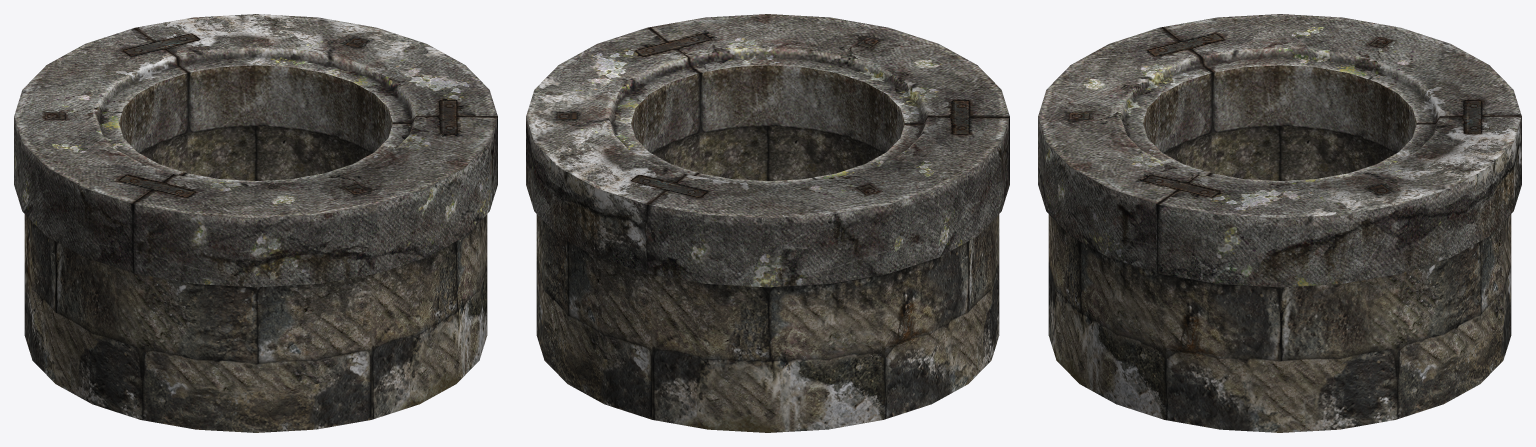
Rendered from SM_Well.FBX.
The picture shows the model from 3 angles, left to right: view 1: azimuth 30°, elevation 25°; view 2: azimuth 150°, elevation 25°; view 3: azimuth 270°, elevation 25°; orthographic projection.
Visible parts, largest first — view 1: SM_Well; view 2: SM_Well; view 3: SM_Well.
Boxes of the visible parts, bbox=[...] form: SM_Well: bbox=[14, 14, 497, 432]; SM_Well: bbox=[526, 14, 1009, 432]; SM_Well: bbox=[1038, 14, 1521, 432].
Size of what is drawn, in the model's own units: 256 by 256 by 128.
